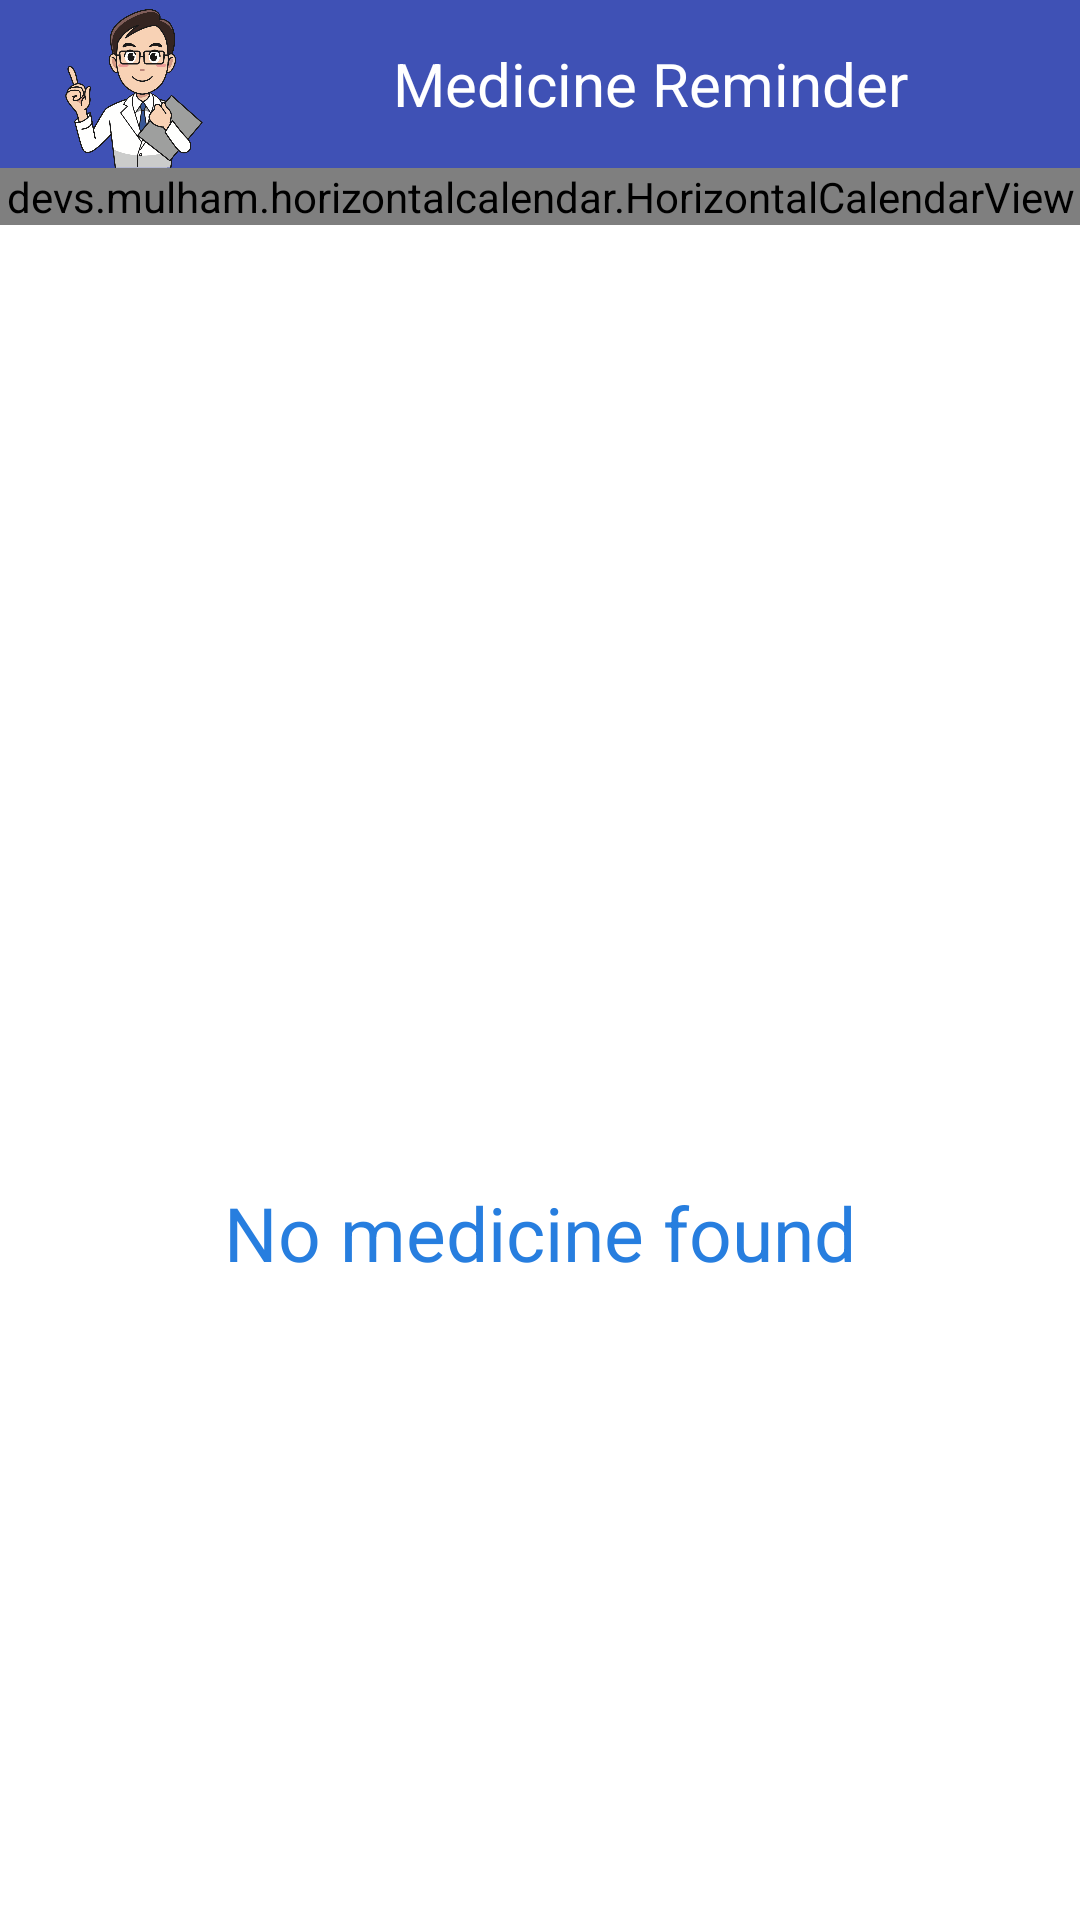

Screen size 1080 x 1920. Icon name, then its box in pixels as (x1, y1, x2, y2):
doctor: (65, 9, 203, 168)
